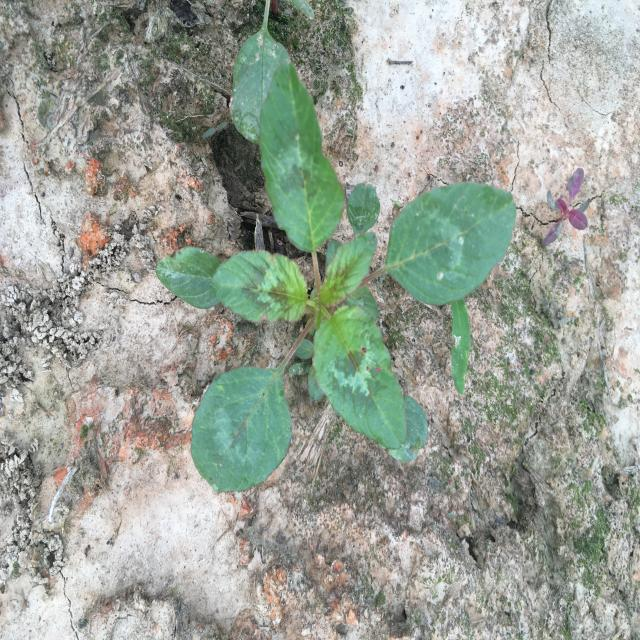PalmerAmaranth: (155, 29, 517, 493)
